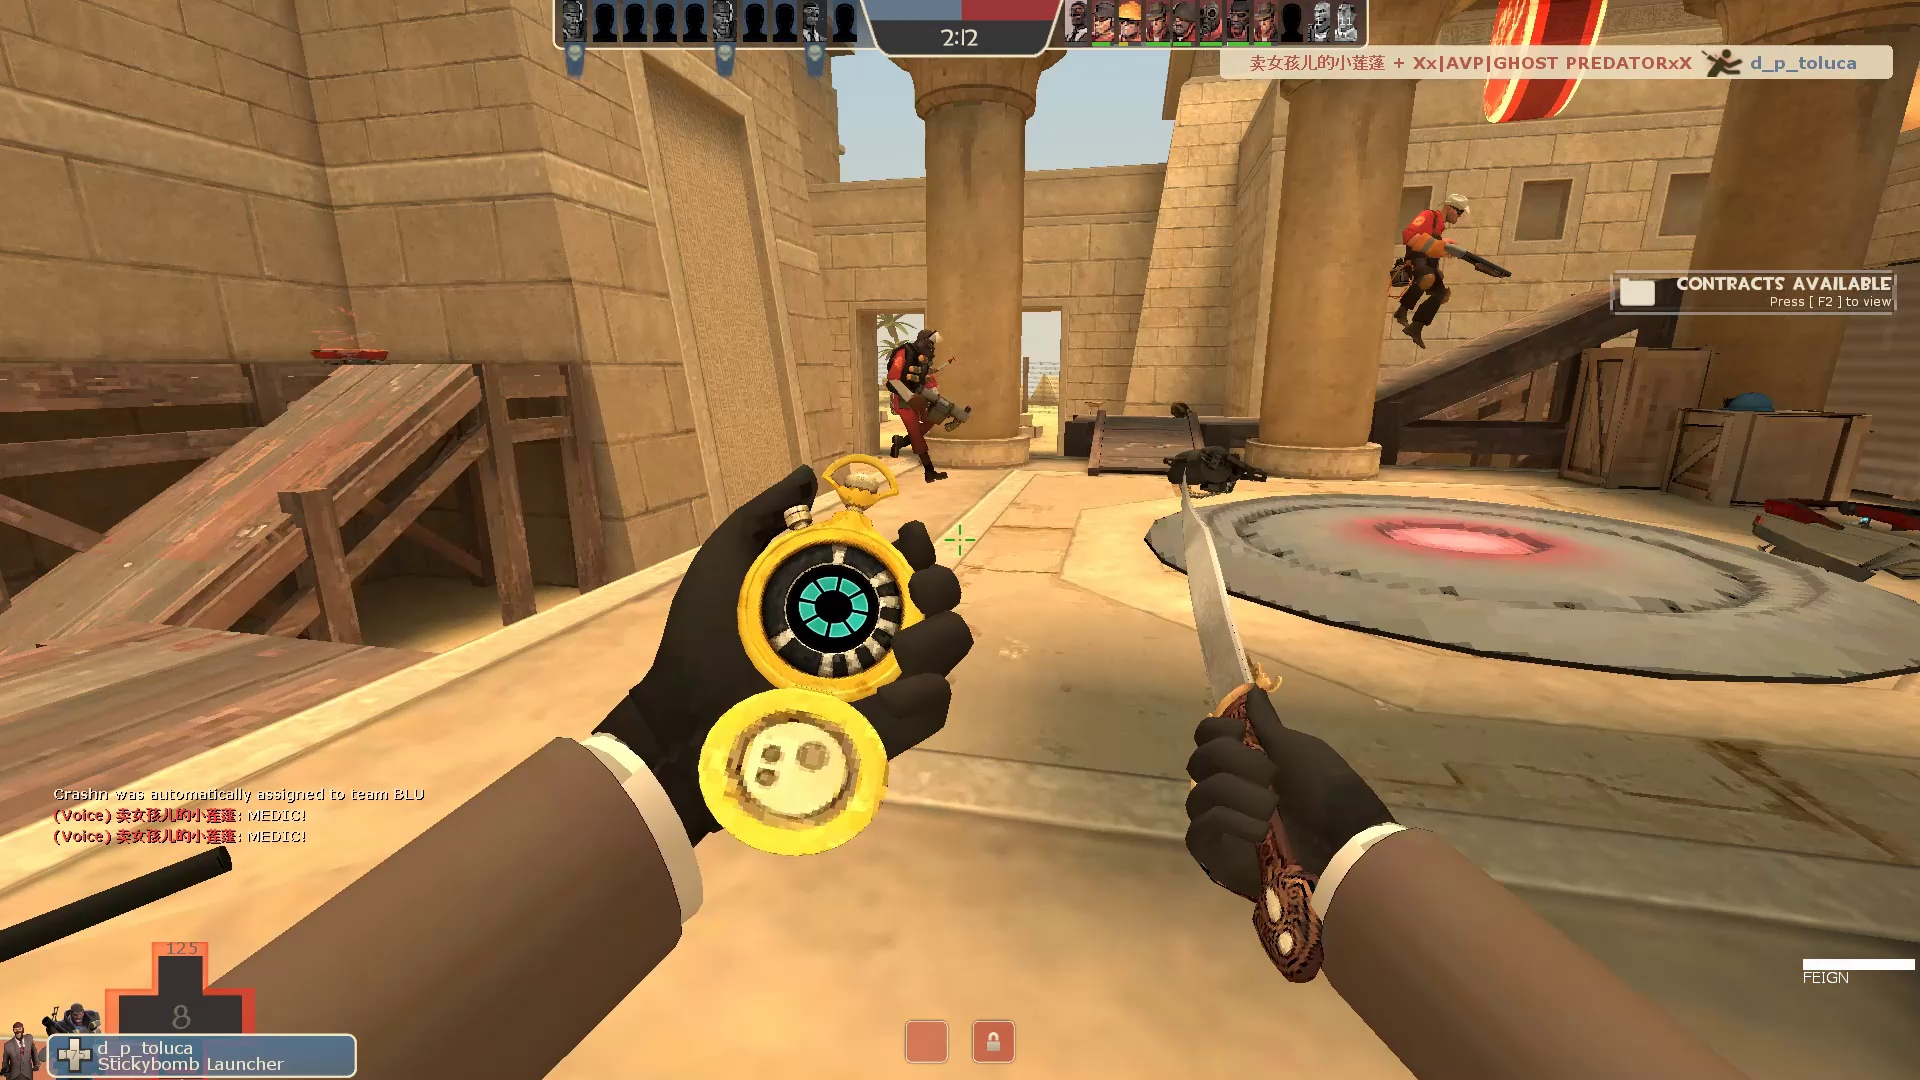red_demo: (881, 326, 976, 495)
red_engineer: (1381, 189, 1516, 356)
red_teleporter_exit: (306, 299, 393, 368)
